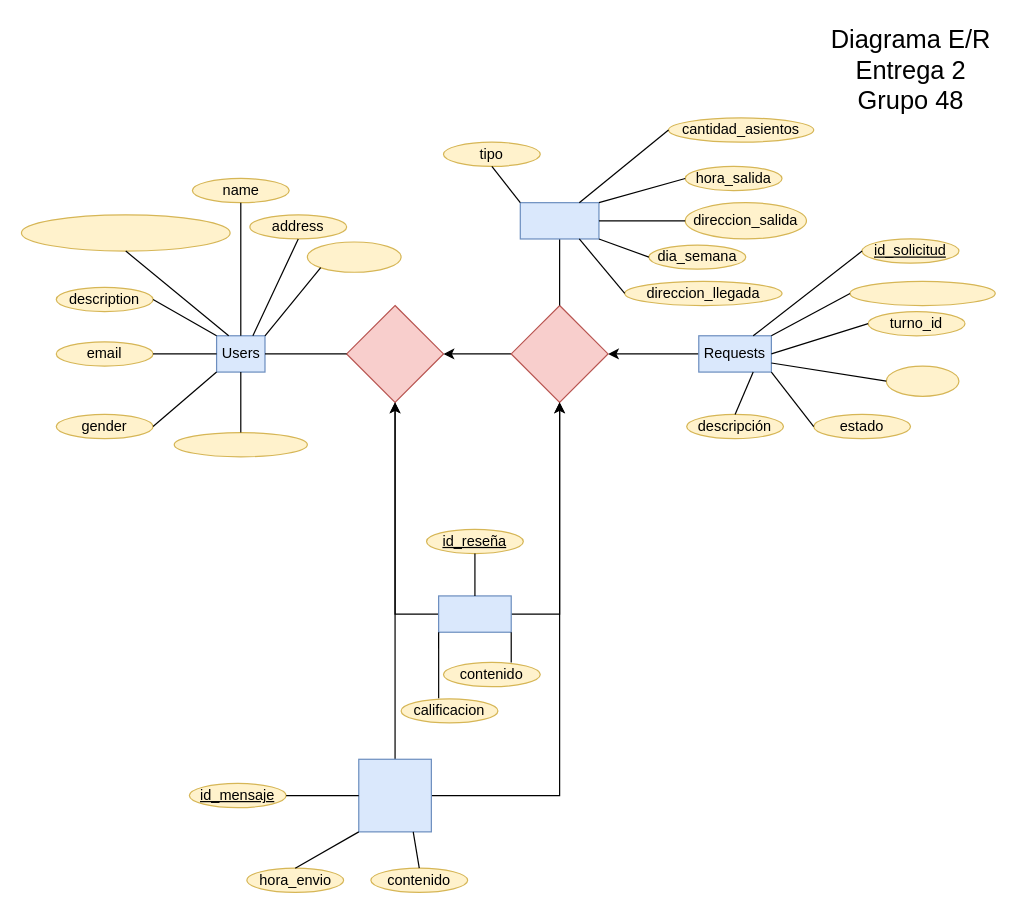
Image size: 1022x914. Some labels were removed from this diagram. Each missing label, with the centre of its shape:
fecha_actualizacion_cuenta: the point at 125,232
id_turno: the point at 559,353
id_usuario: the point at 394,353
id_usuario_solicitud: the point at 922,293
Mensaje: the point at 394,795
password: the point at 353,256
phone: the point at 240,444
Resena: the point at 474,613
Turno: the point at 559,220
user_id: the point at 922,380
